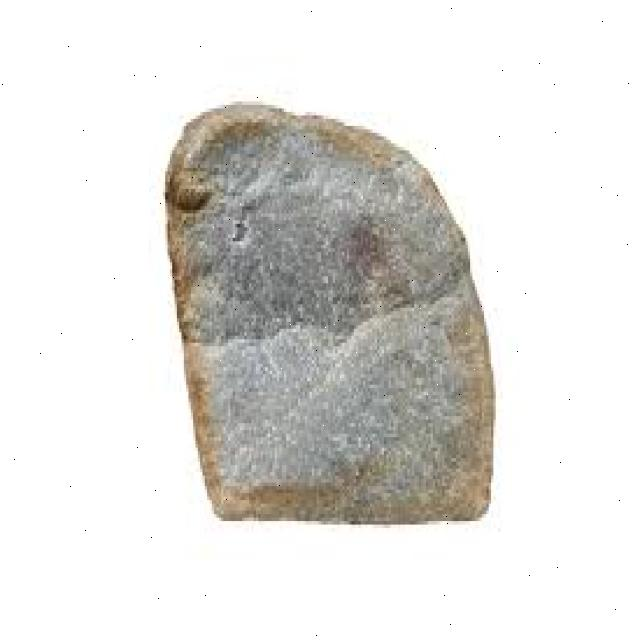Metamorphic: (156, 81, 510, 542)
